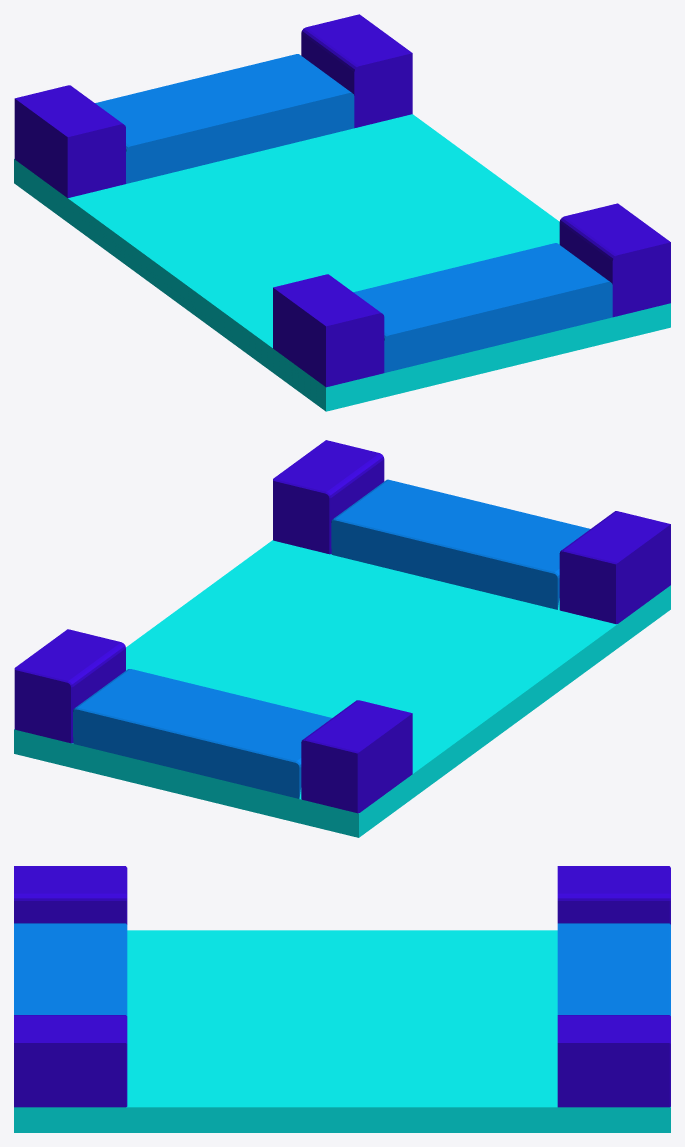
Rendered from Arena.fbx.
3 views of the same model, one above another, from view 1: azimuth 30°, elevation 25°; view 2: azimuth 150°, elevation 25°; view 3: azimuth 270°, elevation 25° (orthographic). The views are drawn at different scales.
Parts seen in each view (by area): view 1: Floor, Platform, Platform.001, Wall_R, Wall_R.001, Wall_L.001, Wall_L; view 2: Floor, Platform, Platform.001, Wall_R.001, Wall_R, Wall_L.001, Wall_L; view 3: Floor, Wall_L, Wall_L.001, Platform.001, Platform, Wall_R, Wall_R.001.
Part boxes in pixels (x1=…): Floor: x1=14, y1=114, x2=670, y2=411; Platform: x1=353, y1=243, x2=612, y2=372; Platform.001: x1=95, y1=54, x2=354, y2=183; Wall_R: x1=273, y1=274, x2=384, y2=387; Wall_R.001: x1=14, y1=85, x2=125, y2=197; Wall_L.001: x1=301, y1=14, x2=412, y2=128; Wall_L: x1=559, y1=203, x2=670, y2=317; Floor: x1=14, y1=540, x2=670, y2=837; Platform: x1=331, y1=479, x2=589, y2=609; Platform.001: x1=73, y1=669, x2=331, y2=798; Wall_R.001: x1=301, y1=700, x2=412, y2=813; Wall_R: x1=559, y1=511, x2=670, y2=624; Wall_L.001: x1=14, y1=629, x2=125, y2=743; Wall_L: x1=273, y1=440, x2=384, y2=554; Floor: x1=14, y1=930, x2=670, y2=1132; Wall_L: x1=14, y1=1015, x2=127, y2=1107; Wall_L.001: x1=557, y1=1015, x2=670, y2=1107; Platform.001: x1=557, y1=923, x2=670, y2=1015; Platform: x1=14, y1=923, x2=127, y2=1015; Wall_R: x1=14, y1=866, x2=127, y2=924; Wall_R.001: x1=557, y1=866, x2=670, y2=924.
Bounding box in the file's own units: 1480 × 350 × 2320.
